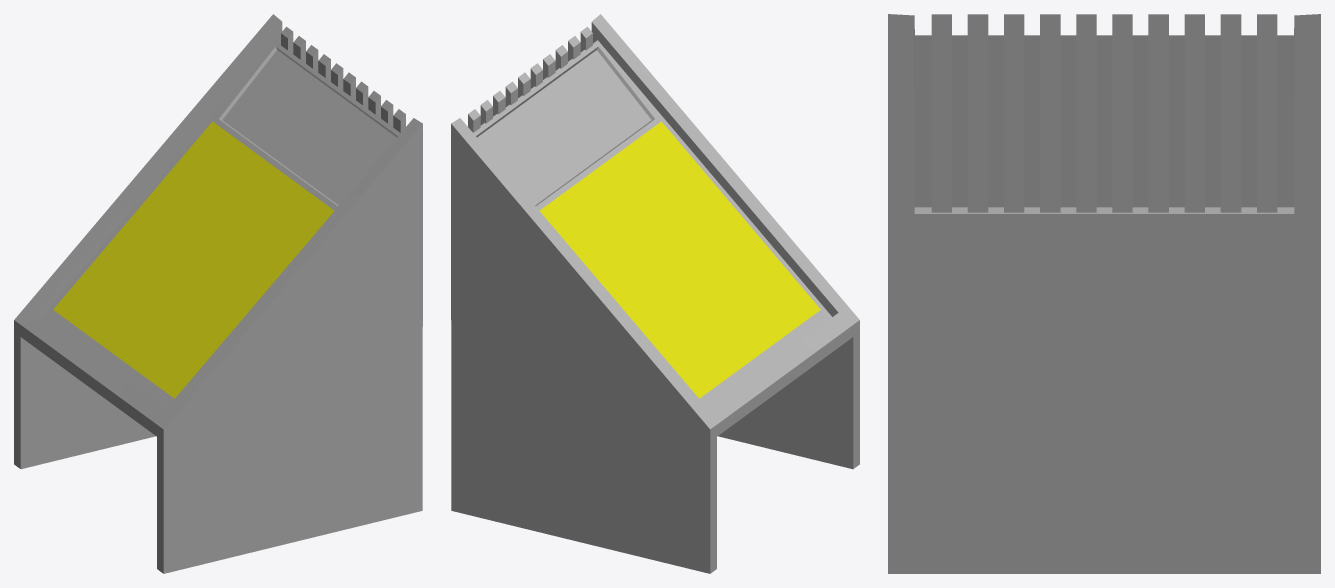
Rendered from lugar de duelo piso4.fbx.
3 views of the same model, side by side, from view 1: azimuth 30°, elevation 25°; view 2: azimuth 150°, elevation 25°; view 3: azimuth 270°, elevation 25° (orthographic). The views are drawn at different scales.
Visible parts, largest first — view 1: lugar_de_duelo; view 2: lugar_de_duelo; view 3: lugar_de_duelo.
Part boxes in pixels (<box>): lugar_de_duelo: <box>14,14,422,573</box>; lugar_de_duelo: <box>451,14,859,573</box>; lugar_de_duelo: <box>888,14,1320,573</box>.
Bounding box in the file's own units: 910 × 1300 × 910.
1 material, 1 textured.
